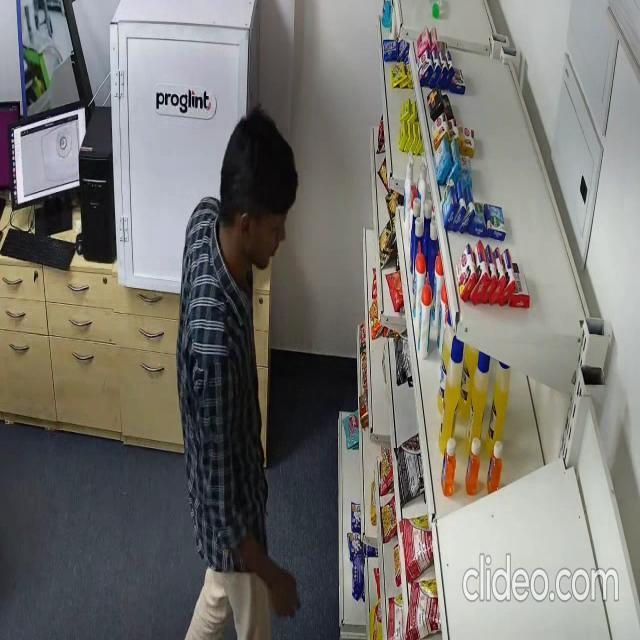normal: (175, 114, 301, 640)
